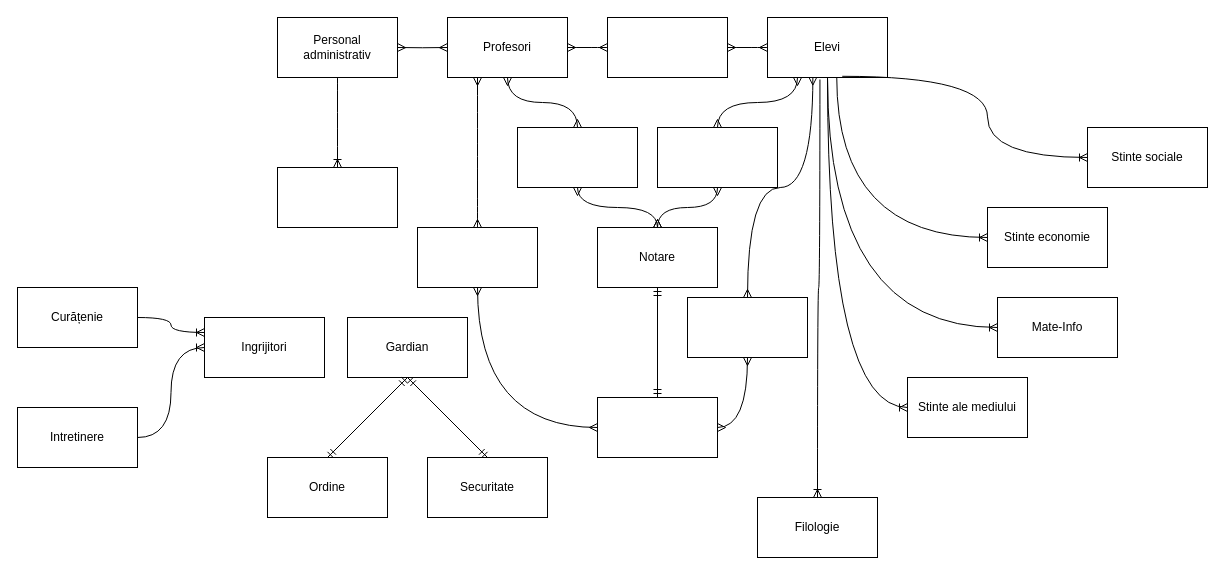
Image size: 1225x575. Some labels were removed from this diagram. The shapes that lost their labels are listed below. From the top down, each one's centre as x and y in pixels, then its label:
(667,47): profesori_elevi
(577,157): note_profesori
(717,157): note_elevi
(337,197): Documente oficiale
(477,257): Examen_profesori
(747,327): Examen_elevi
(657,427): Examen
